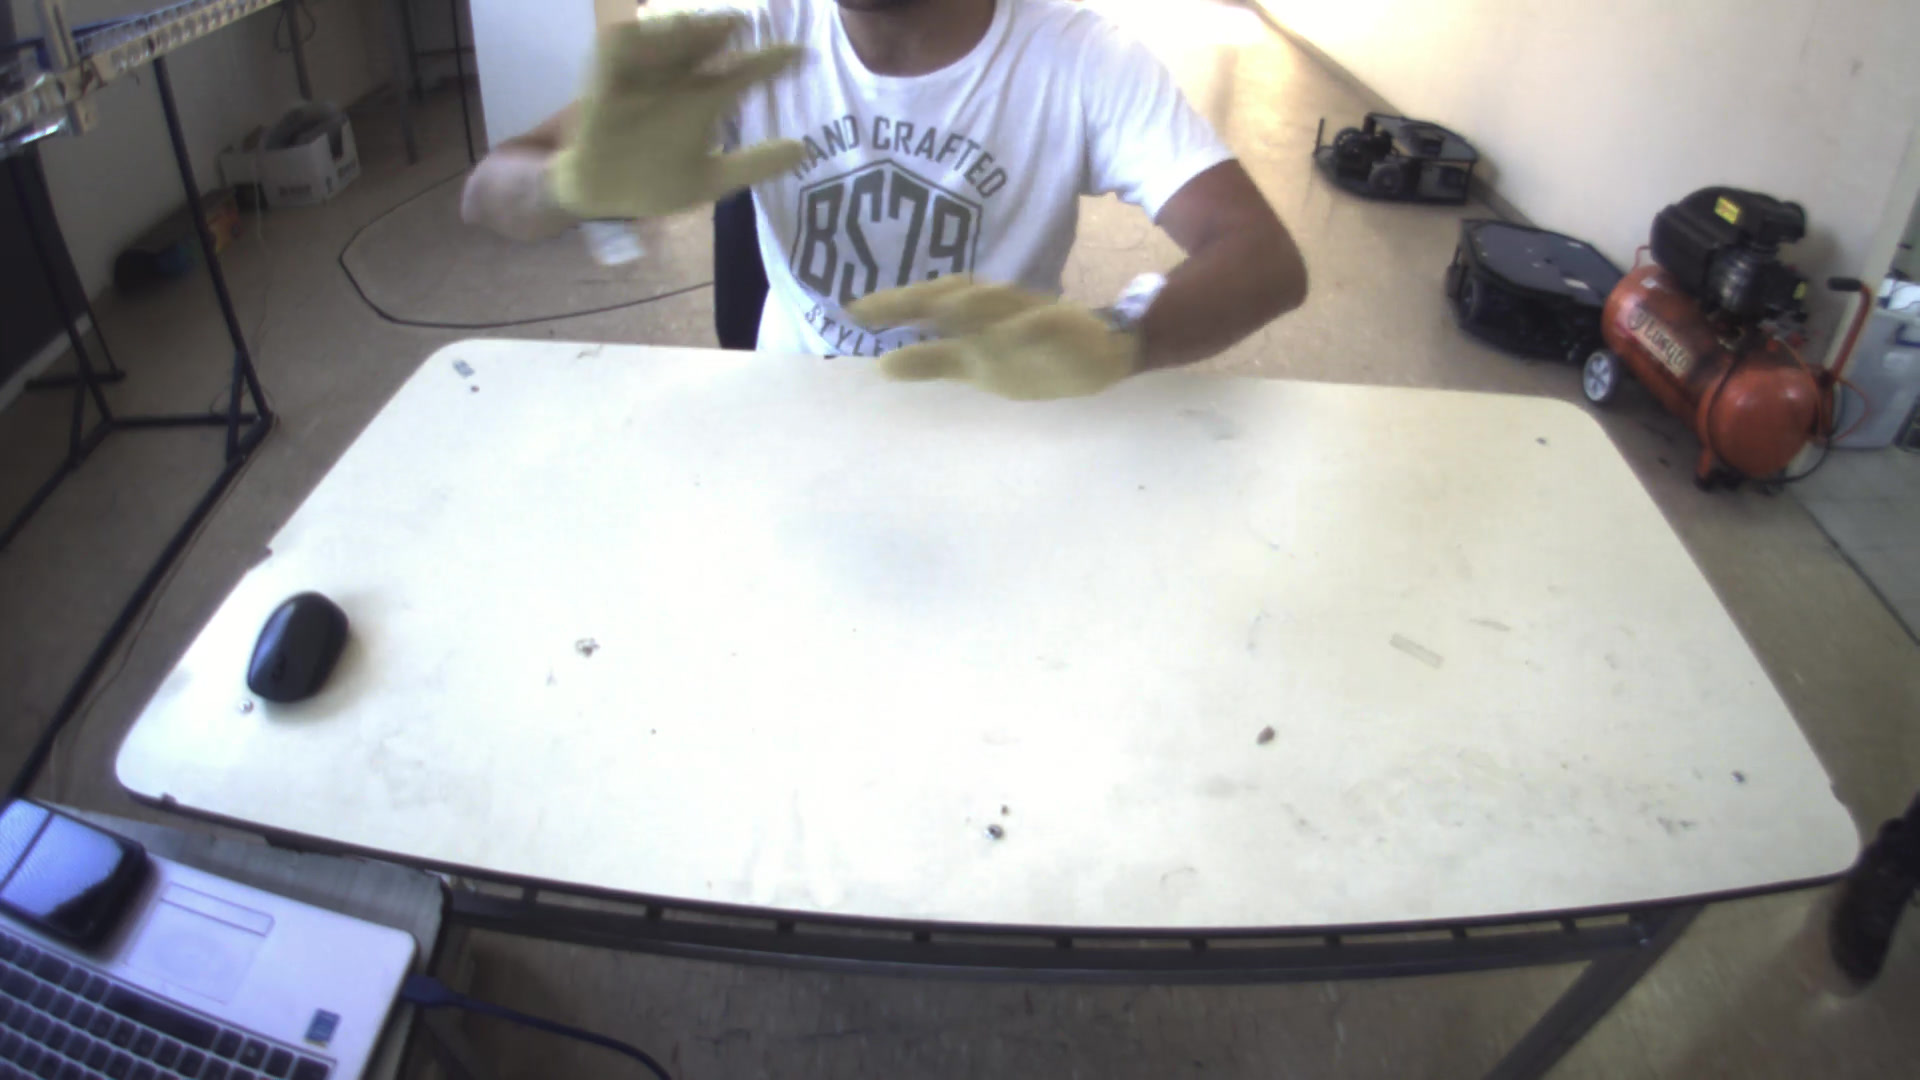hand: (512, 8, 812, 228), (831, 256, 1138, 407)
